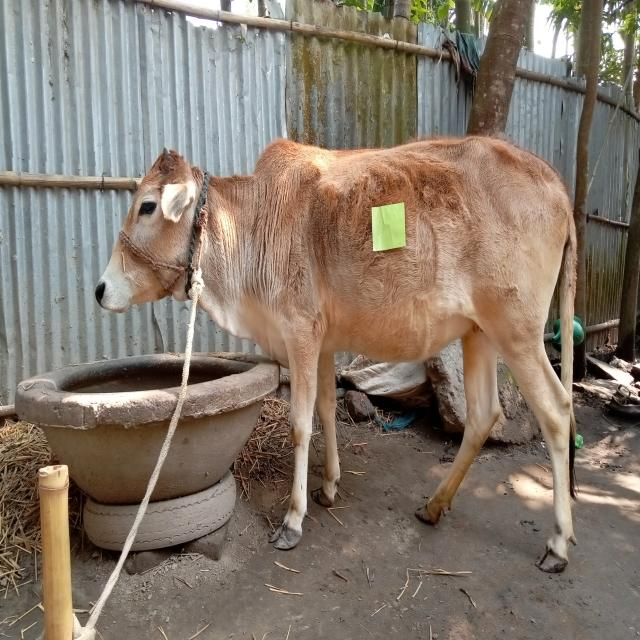badan_sapi: (286, 147, 553, 376)
sapi: (97, 136, 591, 579)
